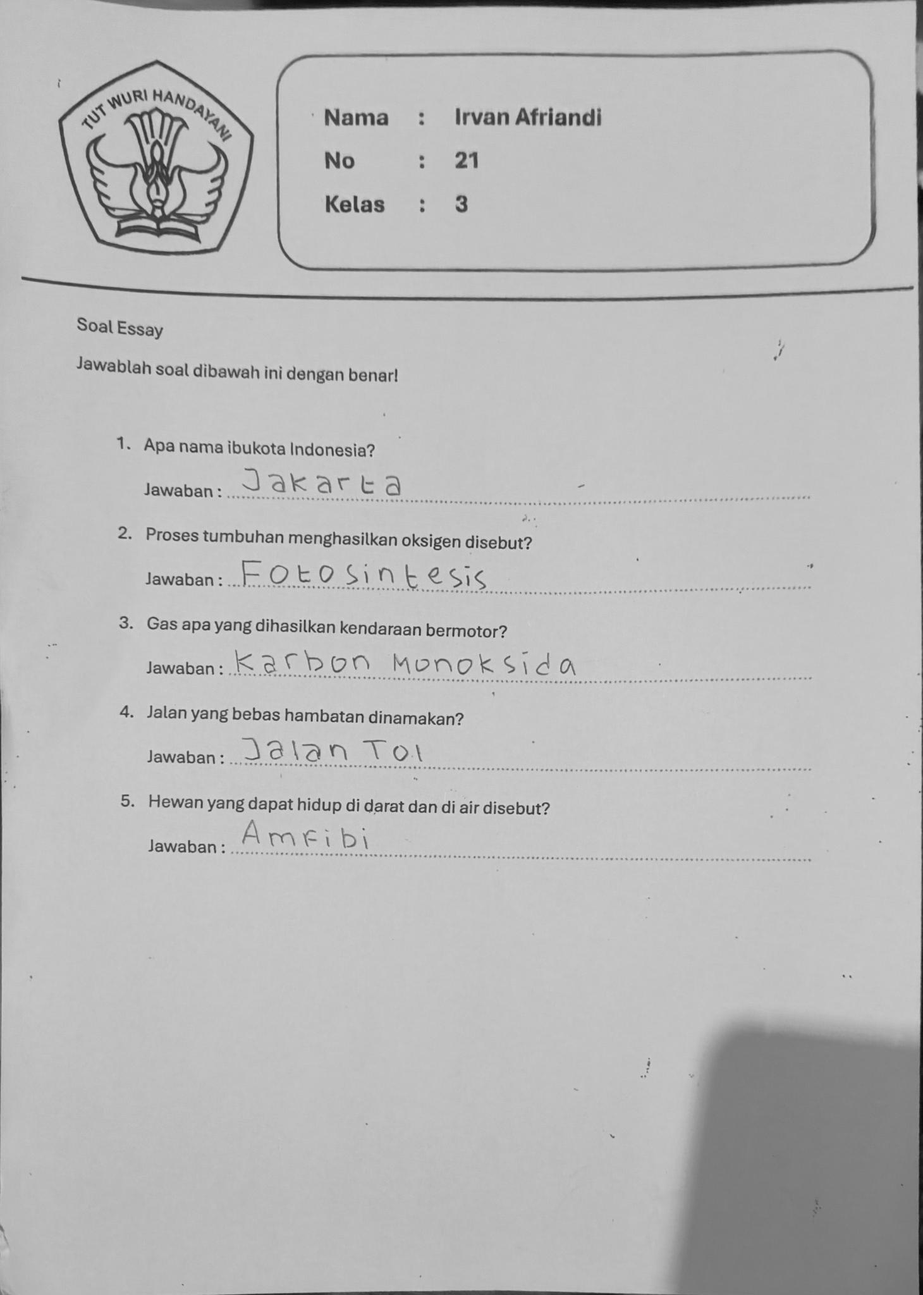soal-1: (108, 424, 818, 527)
soal-2: (110, 522, 815, 611)
soal-3: (109, 612, 818, 699)
soal-4: (112, 701, 821, 793)
soal-5: (106, 789, 824, 883)
